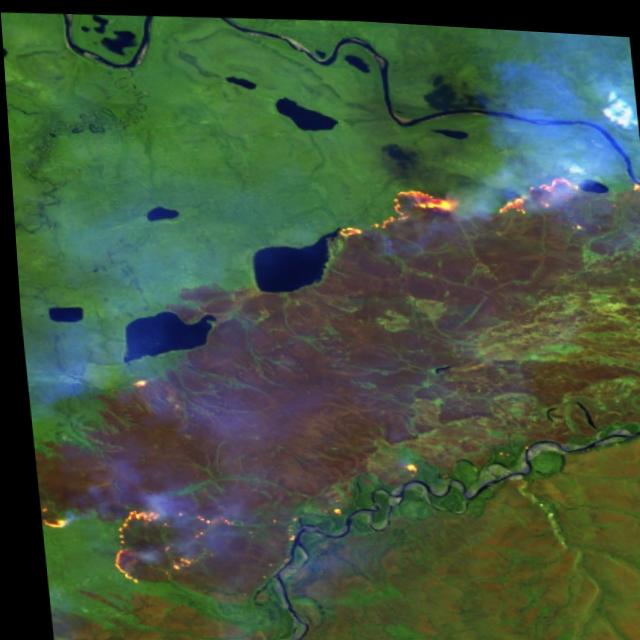fire: (320, 141, 640, 250), (31, 485, 254, 592), (118, 365, 158, 395)
